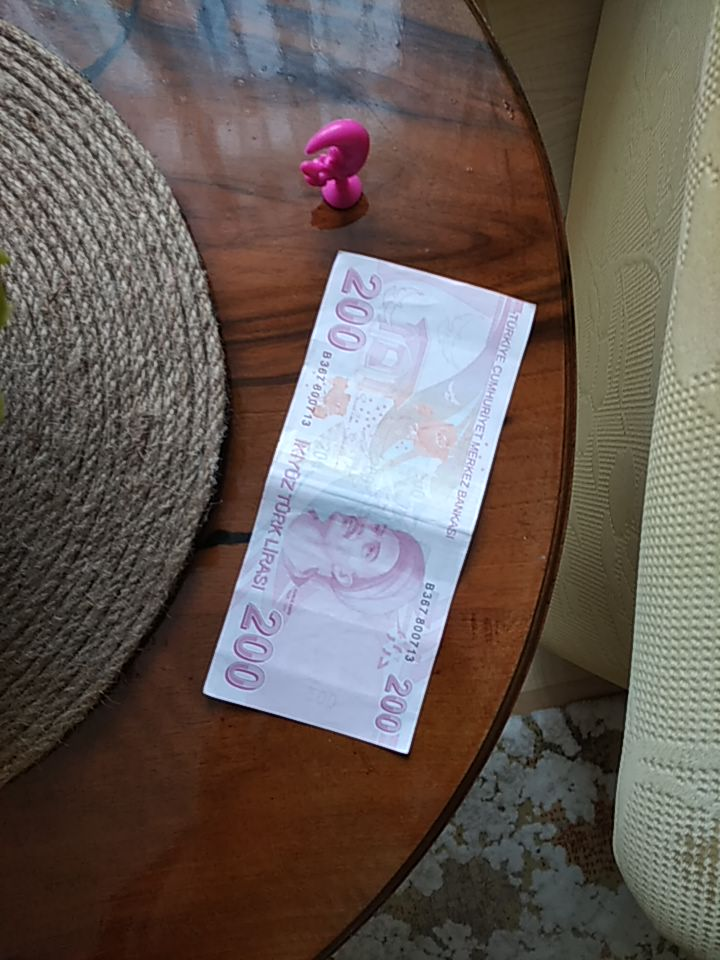200TL: (200, 246, 539, 758)
